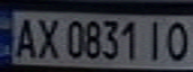0: (63, 16, 84, 60)
1: (118, 18, 142, 61)
3: (100, 17, 121, 61)
8: (81, 17, 103, 61)
A: (9, 15, 39, 60)
I: (142, 17, 169, 62)
O: (160, 18, 193, 63)
X: (33, 13, 60, 60)
